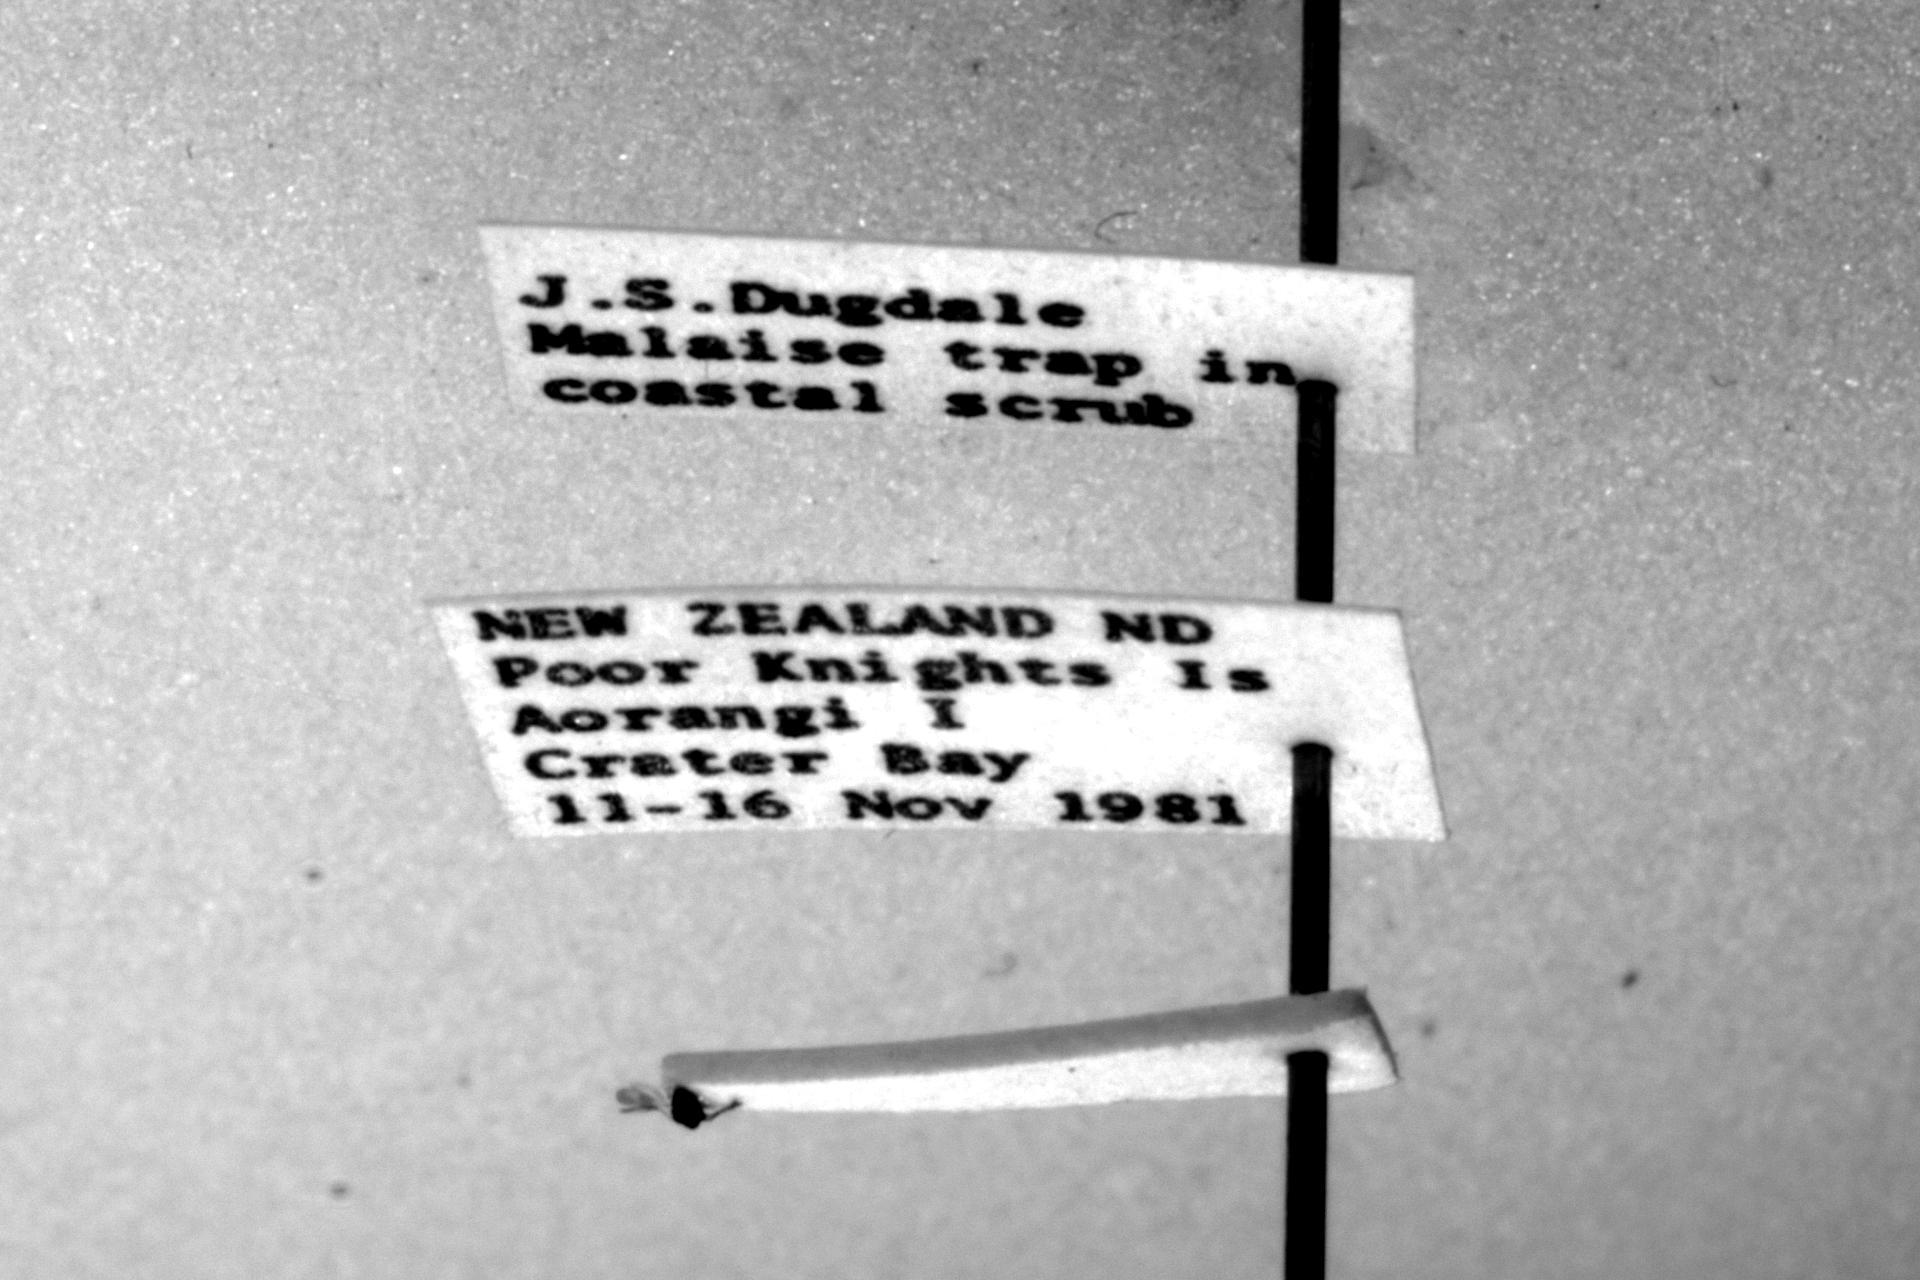typed_label: (431, 589, 1444, 840), (480, 225, 1414, 454)
